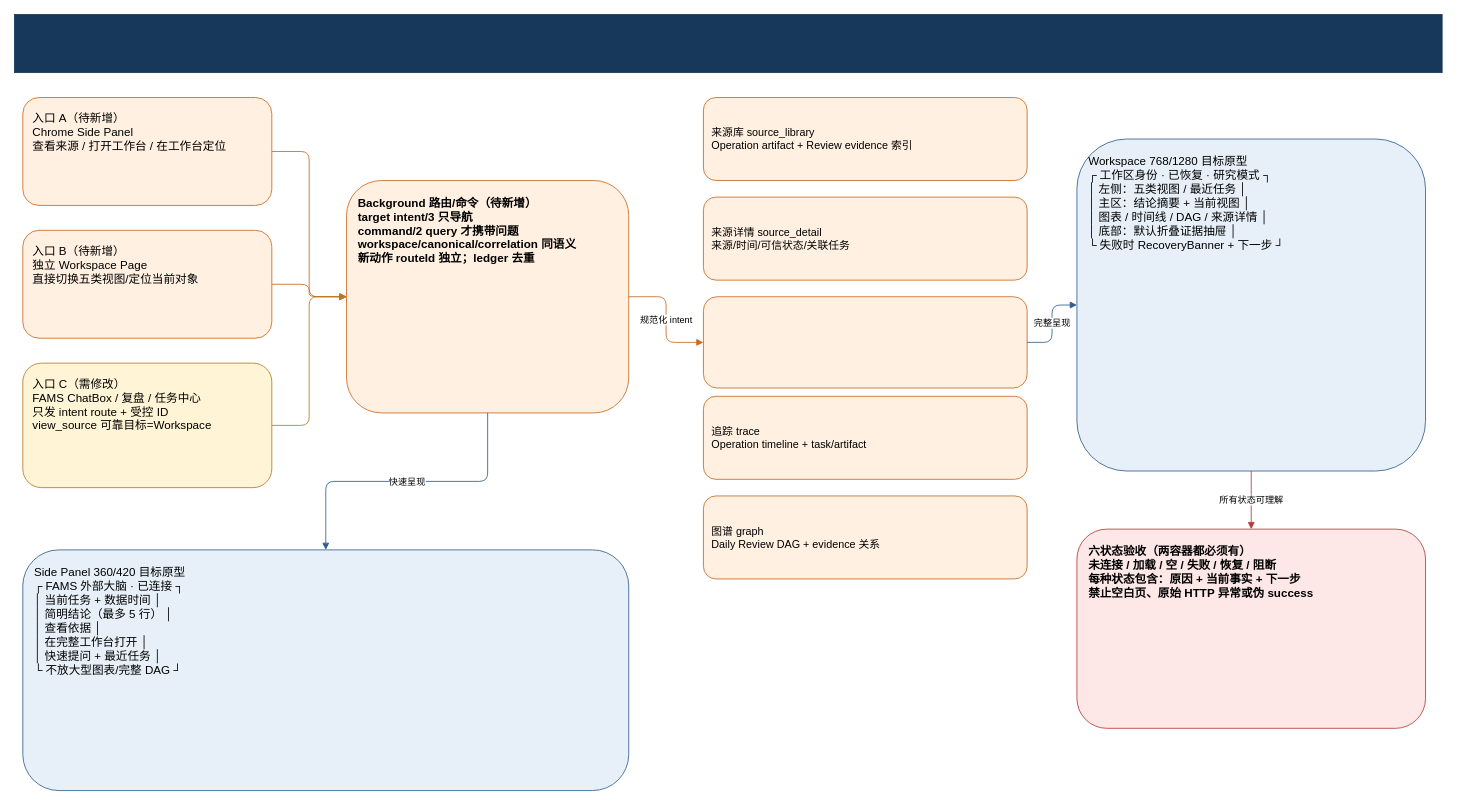
This 1457x805 diagram has some shape labels left out. The box of each missing label's shape, as (x1, y1, x2, y2) in pixels:
目标用户路径：三入口共享同一任务，Side Panel 简明，Workspace 完整: (14, 14, 1442, 73)
问答 ask Route=进入 Ask View；Command=提交问题 famsChatService 结构化摘要 + fallback: (703, 296, 1027, 388)
